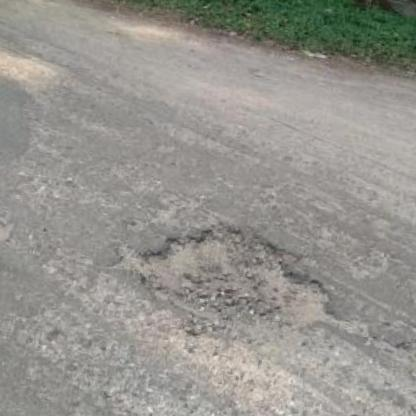pothole: (98, 203, 358, 358)
